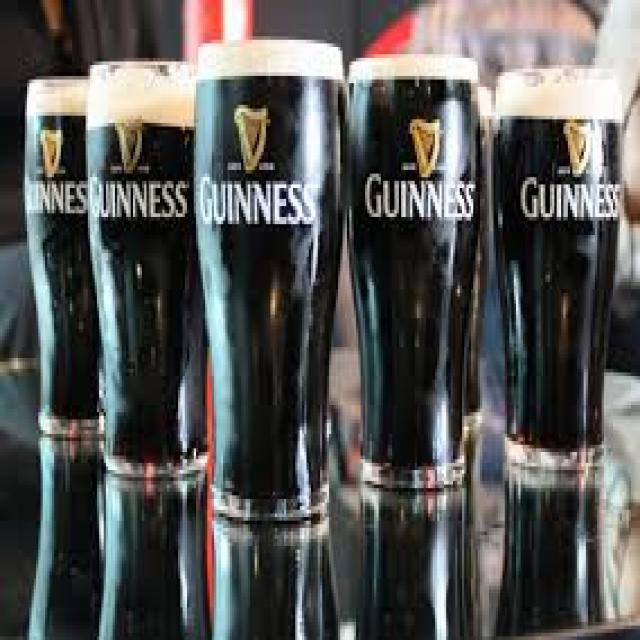guiness_full_glass: (196, 37, 342, 527), (345, 40, 475, 493), (494, 66, 612, 474), (89, 64, 196, 479), (24, 76, 87, 437)
